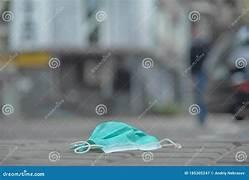Mask: (71, 121, 180, 152)
